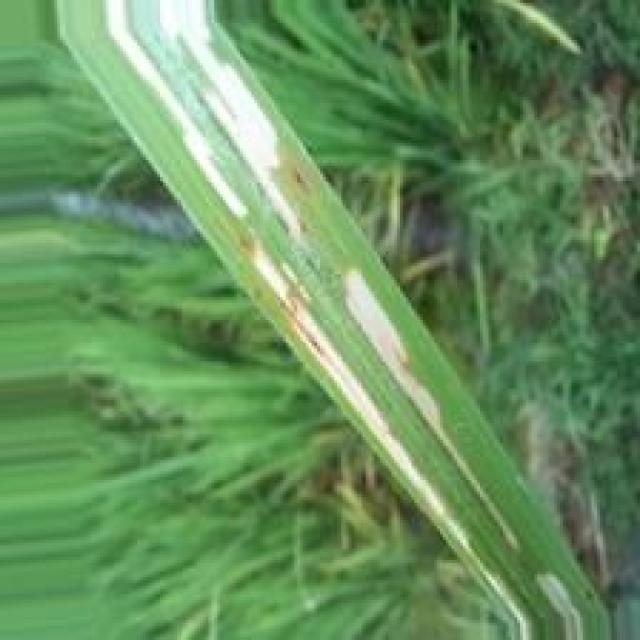Rice_Hispa: (250, 241, 478, 566), (342, 269, 525, 552), (163, 0, 302, 251), (105, 0, 251, 218), (526, 573, 590, 640)
